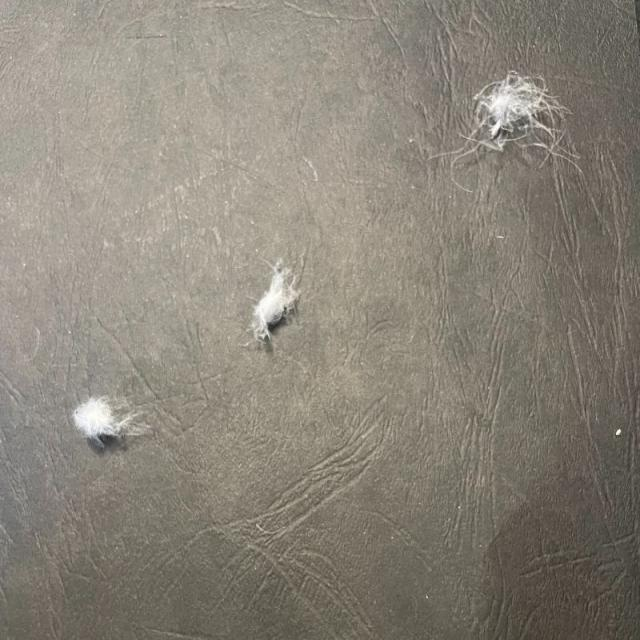feather: (432, 63, 583, 190), (244, 260, 302, 344), (71, 391, 146, 446)
